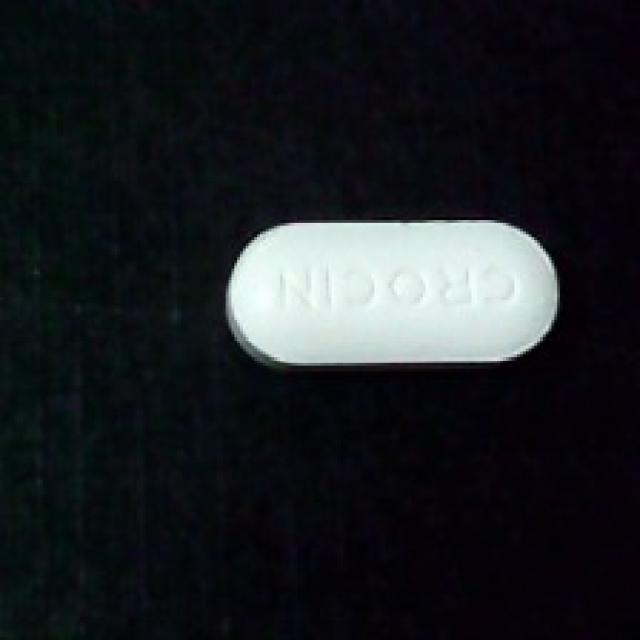no-defect: (223, 211, 563, 380)
